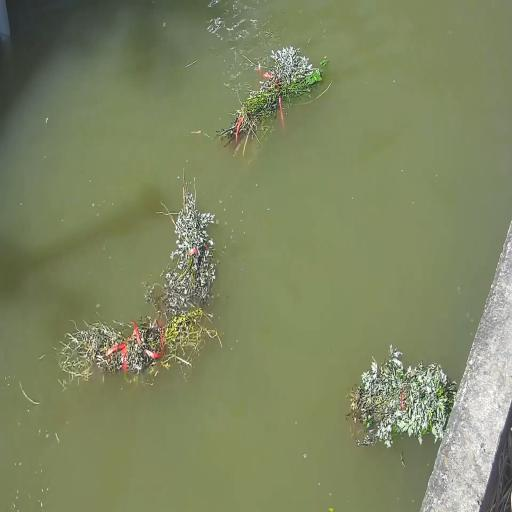twig: (348, 340, 456, 450), (216, 45, 325, 153), (62, 306, 215, 382), (156, 175, 216, 312)
